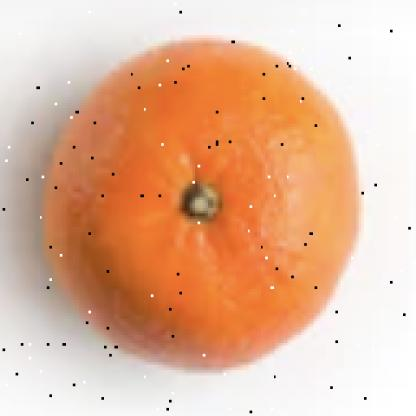fresh: (50, 37, 359, 352)
